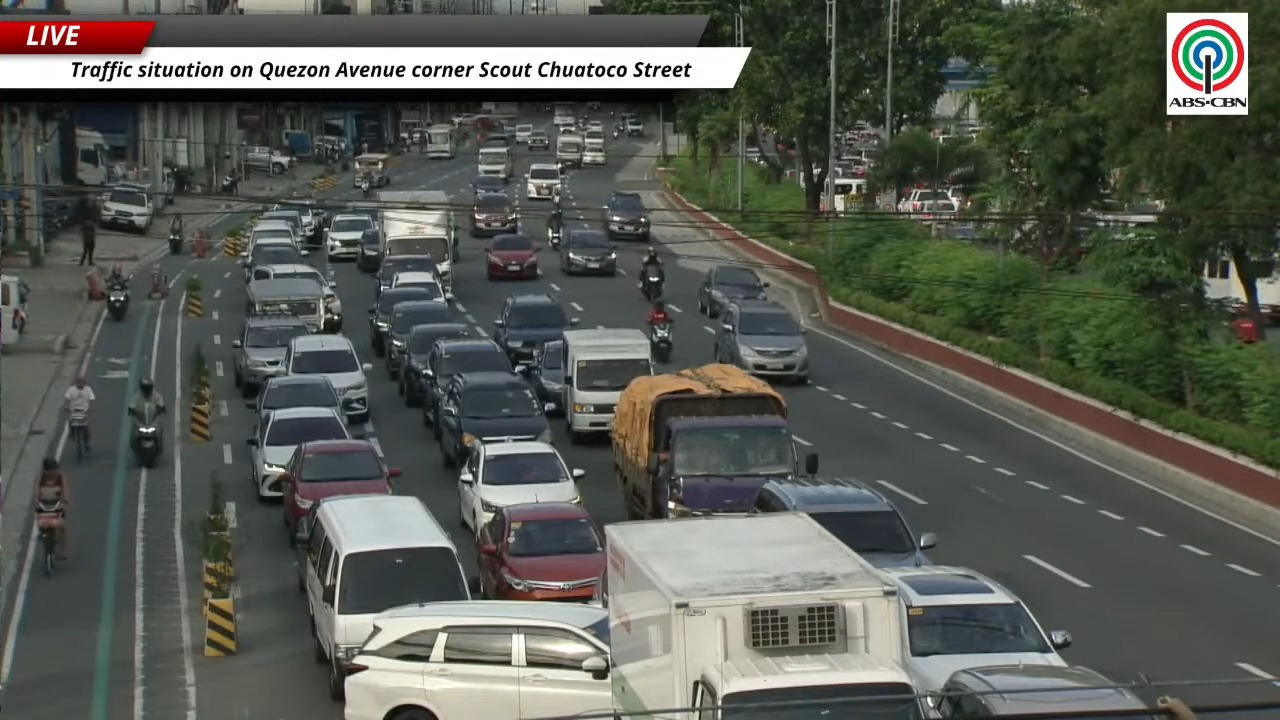car: (343, 601, 612, 719), (880, 565, 1071, 692), (753, 477, 936, 566), (476, 501, 604, 601), (278, 439, 400, 538), (458, 438, 584, 533), (931, 665, 1151, 719), (437, 370, 551, 466), (247, 407, 350, 498), (423, 337, 512, 438), (713, 300, 809, 383), (282, 335, 371, 423), (397, 322, 477, 407), (232, 316, 309, 396), (252, 263, 342, 331), (494, 294, 579, 364), (385, 299, 453, 378), (369, 287, 435, 356), (246, 375, 340, 420), (698, 264, 768, 317), (559, 229, 617, 275), (242, 240, 304, 282), (528, 340, 563, 414), (272, 198, 328, 243), (374, 255, 437, 295), (98, 188, 154, 233), (486, 233, 539, 279), (602, 192, 650, 241), (324, 213, 374, 259), (470, 193, 517, 237), (258, 208, 313, 244), (391, 270, 449, 303), (247, 218, 302, 248), (526, 164, 562, 200), (356, 228, 381, 272), (470, 175, 505, 194), (526, 130, 550, 150), (481, 133, 513, 147), (625, 117, 645, 137), (451, 113, 477, 127), (515, 124, 532, 143), (558, 124, 578, 135), (586, 120, 603, 130)
motorcycle: (35, 499, 63, 576), (128, 408, 162, 468), (68, 410, 87, 462), (650, 323, 672, 363), (106, 283, 129, 321), (640, 269, 662, 302), (218, 173, 238, 194), (168, 229, 183, 254), (547, 225, 562, 249), (362, 180, 371, 197), (612, 128, 619, 139)
truck: (604, 513, 925, 719), (611, 364, 800, 519), (377, 190, 457, 291), (75, 127, 110, 185)
